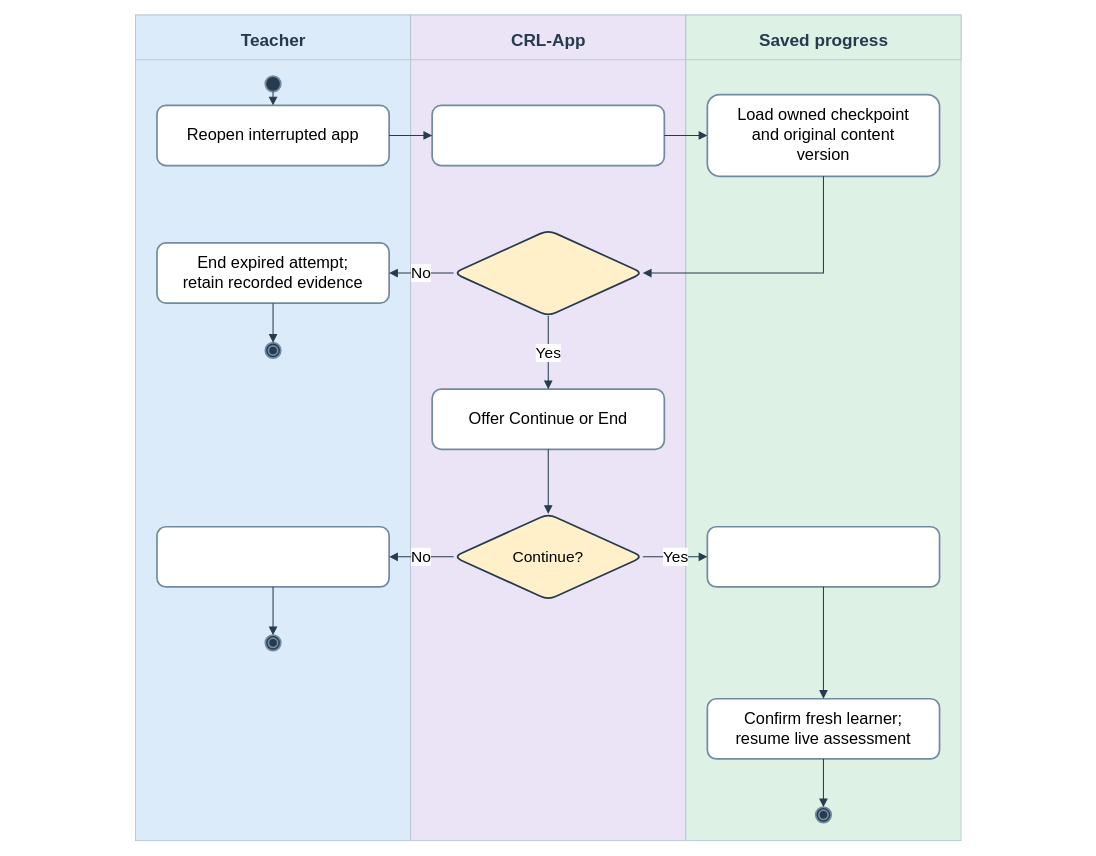
The diagram is 1096 pixels wide and 856 high, and some of its shapes have lost their labels. The centre of each missing label's shape, as x and y in pixels:
End explicitly; retain results and sync journal: (x=273, y=556)
Pause after interruption; release stale live lock: (x=548, y=135)
Restore paused timer; reconnect learner display: (x=823, y=556)
Within 24h; still eligible?: (x=547, y=272)
